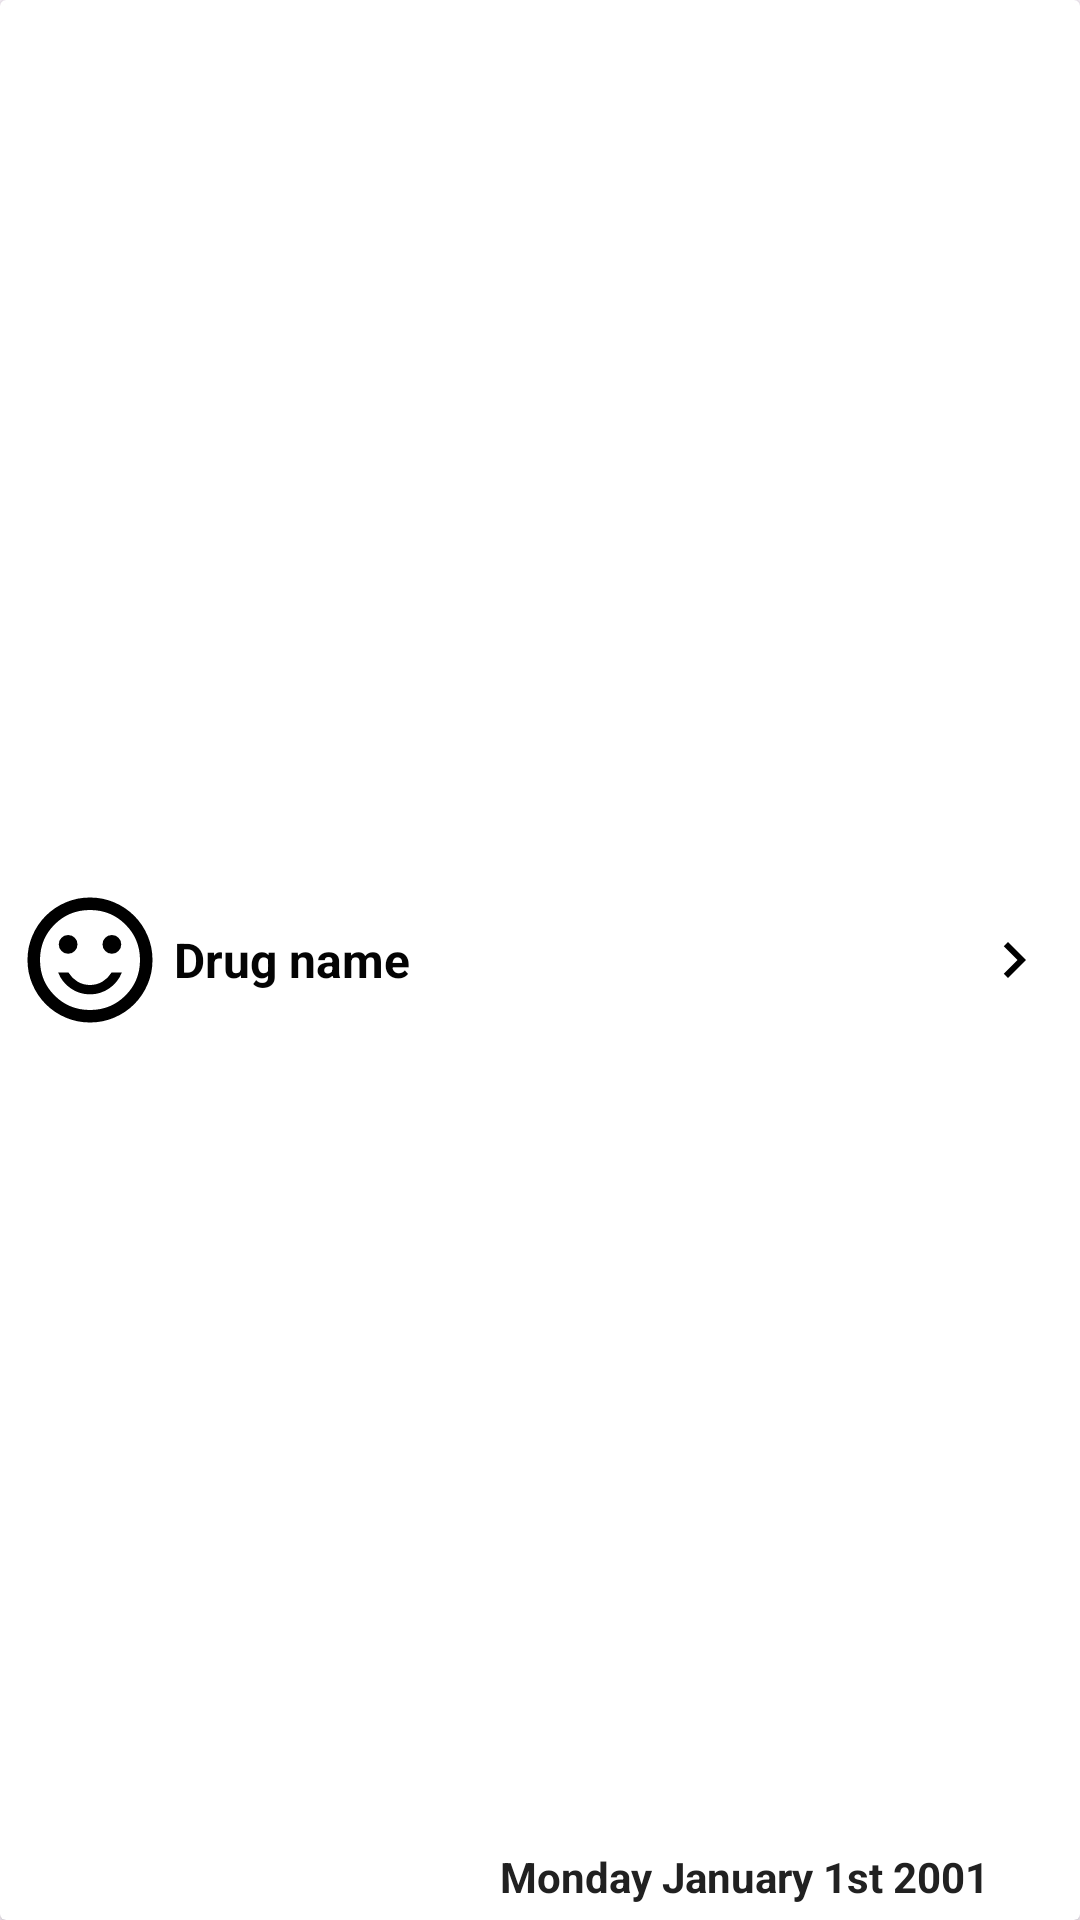

Icon bounding boxes for this 1080px x 1920px phone screenshot, format (x1, y1, x2, y2):
Detail view: (1004, 942, 1026, 978)
